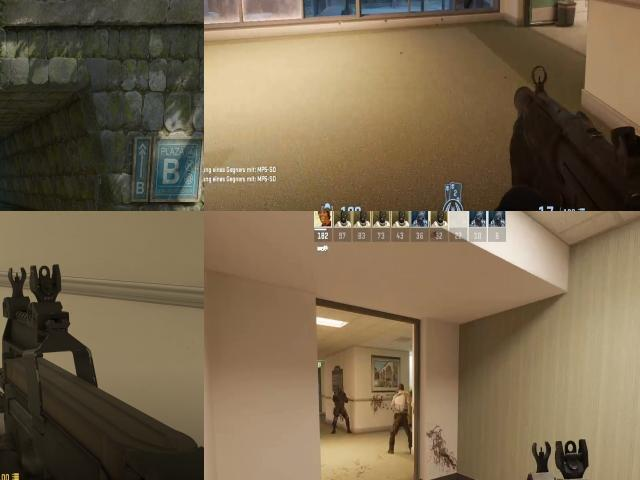CT: (332, 385, 348, 415)
CT-Head: (336, 385, 345, 395)
T: (392, 385, 412, 422), (395, 383, 406, 399)
